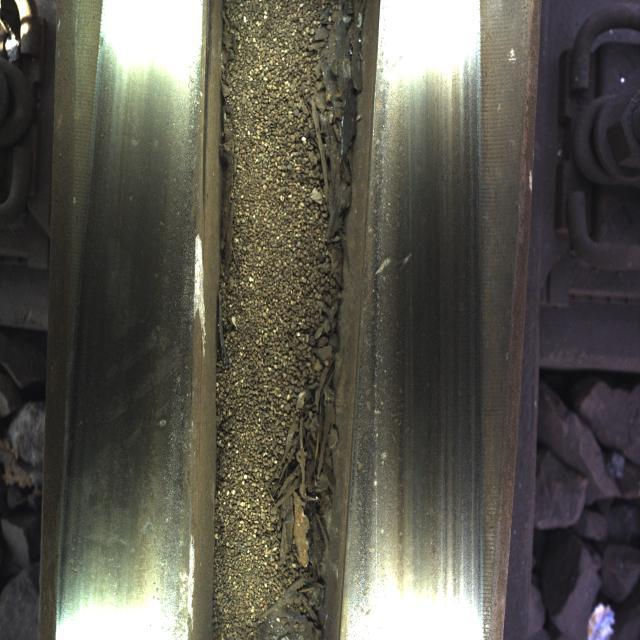normal: (375, 70, 471, 595), (104, 42, 190, 624)
